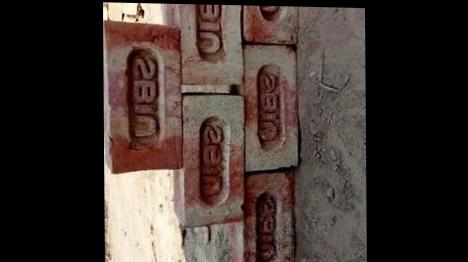brick: (104, 18, 183, 174), (183, 95, 245, 228), (243, 42, 298, 170), (180, 4, 246, 84), (242, 171, 297, 262), (242, 5, 298, 41)
